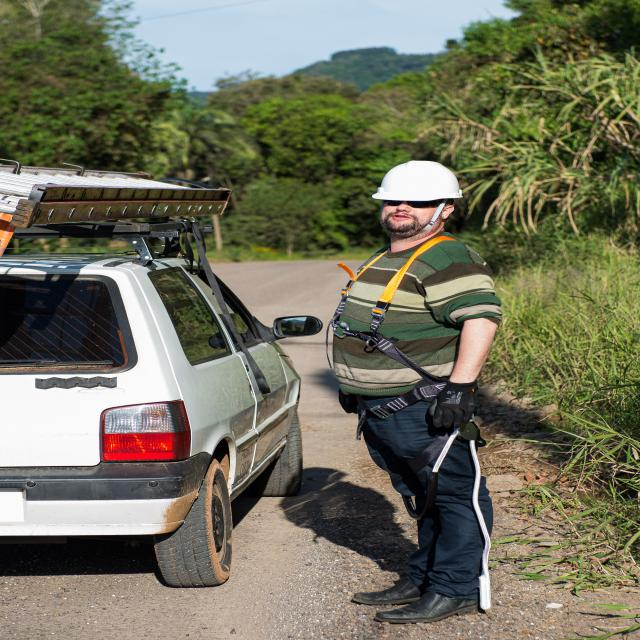botas: (373, 585, 489, 629), (349, 570, 446, 609)
capacete: (371, 160, 462, 202)
corda de vida: (325, 229, 484, 478)
luva: (424, 380, 475, 434)
